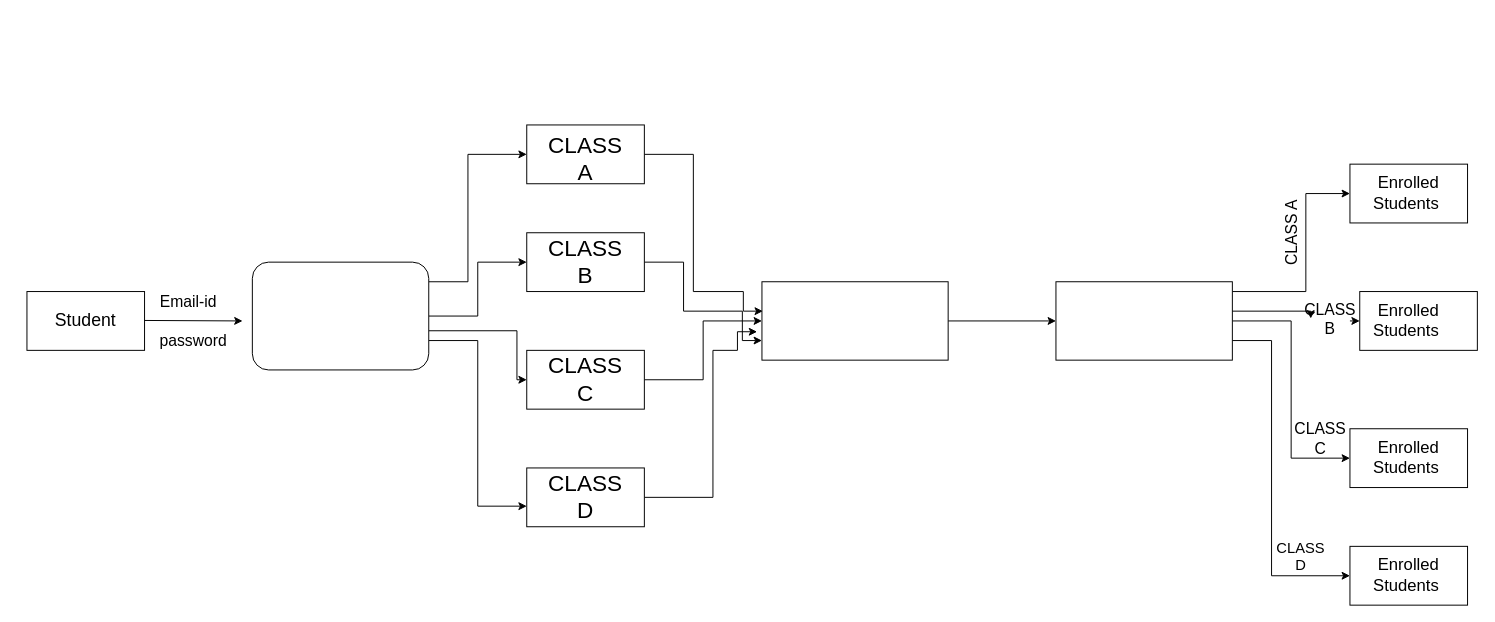
Some shapes in this 1495 by 622 pixel diagram are drawn without their labels. The shapes that lost their labels are listed below. From the top down, each one's centre as x and y in pixels, then its label:
point (340, 315): Current Schedule session
point (854, 320): Enrollement
point (1143, 320): Teacher
